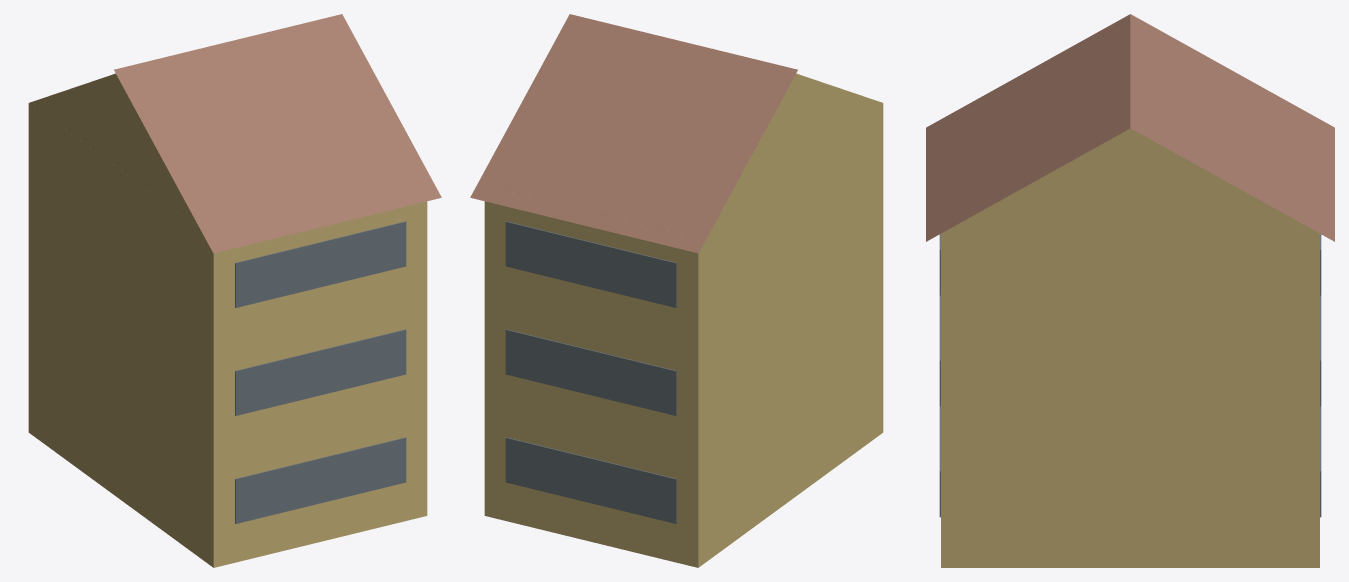
The model's file is cove-house-yellow.coast-v2.lod2.glb.
3 renders of one model, left to right at view 1: azimuth 30°, elevation 25°; view 2: azimuth 150°, elevation 25°; view 3: azimuth 270°, elevation 25°, orthographic. The views are drawn at different scales.
Visible parts, largest first — view 1: cove-house-yellow; view 2: cove-house-yellow; view 3: cove-house-yellow.
Boxes of the visible parts, box(x1,y1,x2,y2) form: cove-house-yellow: box(28, 14, 441, 567); cove-house-yellow: box(470, 14, 883, 567); cove-house-yellow: box(926, 14, 1334, 567).
Bounding box in the file's own units: 6.42 × 11.61 × 9.7.
